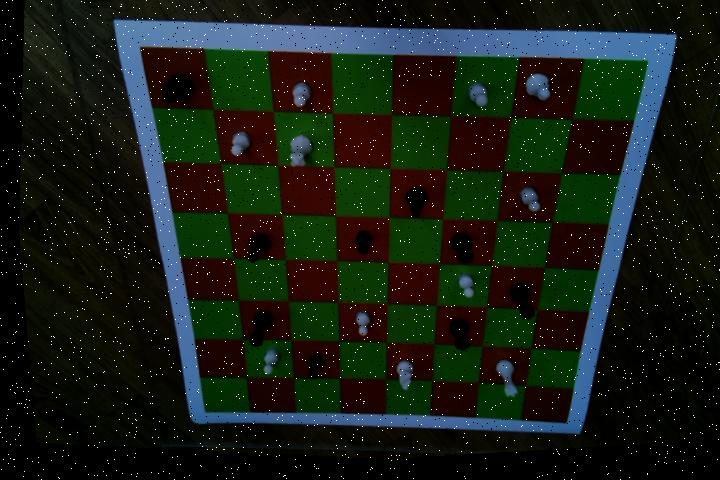chessboard-detect: (138, 47, 647, 431)
